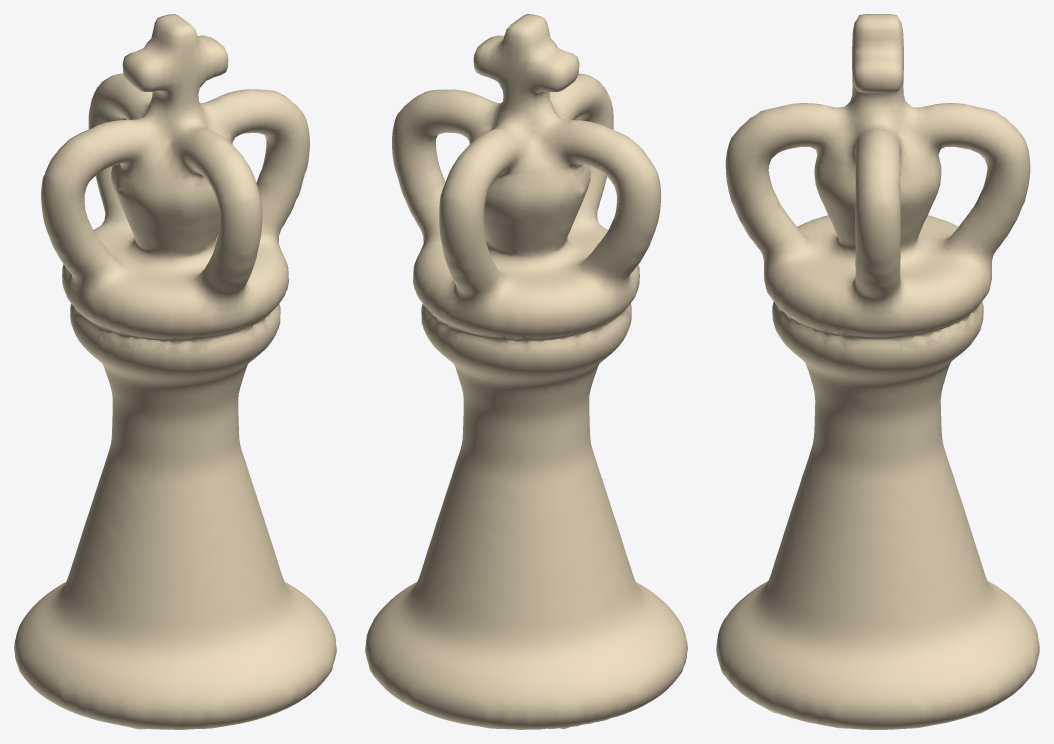
Rendered from KFB_ChessM_king_light.r1.glb.
3 renders of one model, left to right at view 1: azimuth 30°, elevation 25°; view 2: azimuth 150°, elevation 25°; view 3: azimuth 270°, elevation 25°, orthographic.
Visible parts, largest first — view 1: KFB_ChessM_king_light; view 2: KFB_ChessM_king_light; view 3: KFB_ChessM_king_light.
Boxes of the visible parts, box(x1,y1,x2,y2) form: KFB_ChessM_king_light: box(14, 14, 336, 729); KFB_ChessM_king_light: box(365, 14, 687, 729); KFB_ChessM_king_light: box(716, 14, 1039, 729).
Size of the model in its own units: 2.64 by 5.88 by 2.64.
